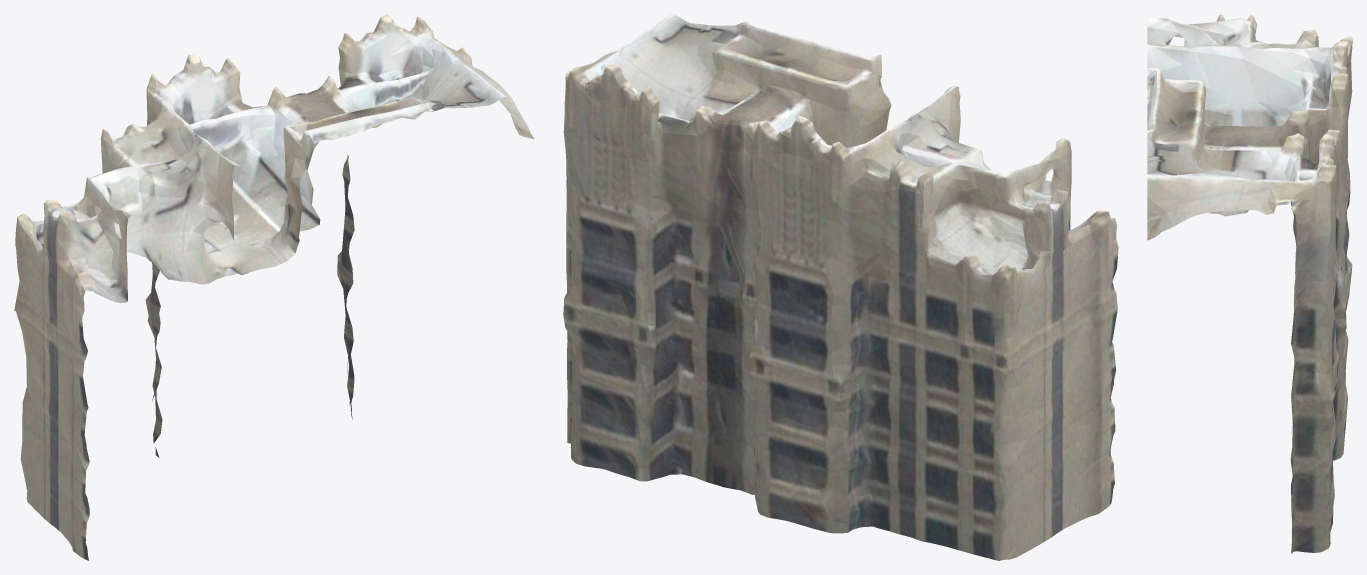
The model's file is Tile__003__000_L21_0003110.glb.
3 renders of one model, left to right at view 1: azimuth 30°, elevation 25°; view 2: azimuth 150°, elevation 25°; view 3: azimuth 270°, elevation 25°, orthographic. The views are drawn at different scales.
Visible parts, largest first — view 1: root; view 2: root; view 3: root.
Part boxes in pixels (x1,y1,x2,y2): root: [14, 14, 534, 560]; root: [563, 14, 1118, 560]; root: [1147, 14, 1352, 553].
Size of the model in its own units: 19.7 by 16.07 by 7.57.
1 material, 1 textured.
